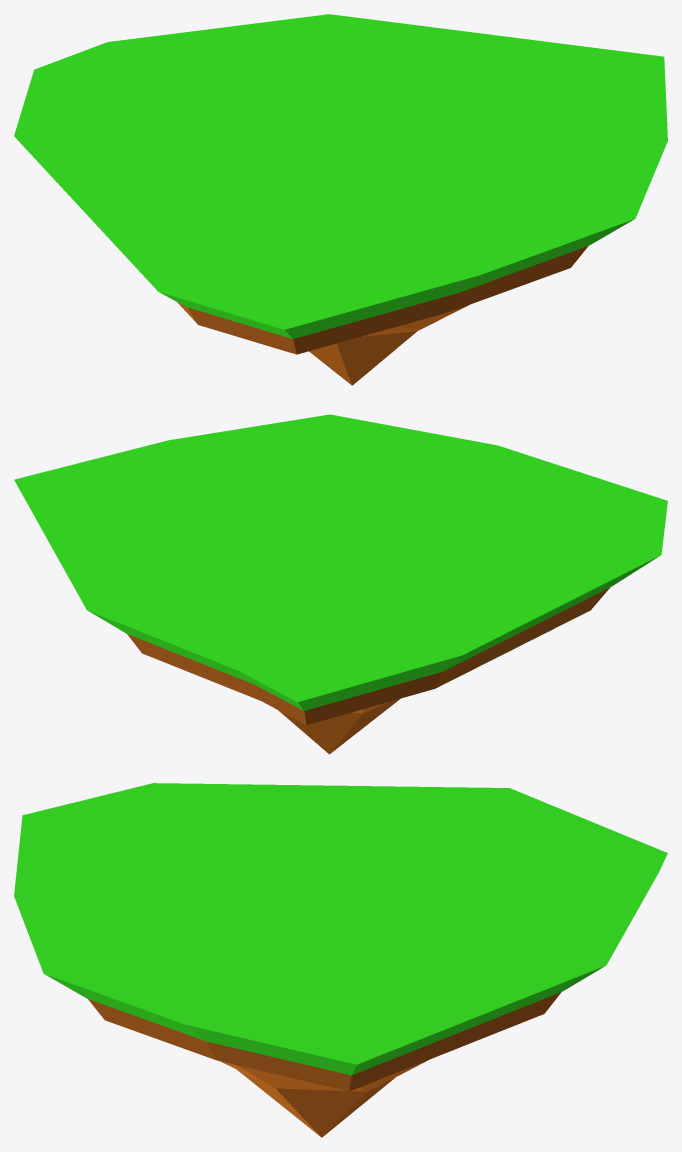
Rendered from island1.fbx.
The picture shows the model from 3 angles, top to bottom: view 1: azimuth 30°, elevation 25°; view 2: azimuth 150°, elevation 25°; view 3: azimuth 270°, elevation 25°; orthographic projection. The views are drawn at different scales.
Parts seen in each view (by area): view 1: island; view 2: island; view 3: island.
Part boxes in pixels (x1,y1,x2,y2): island: (14, 14, 667, 385); island: (14, 414, 667, 754); island: (14, 783, 667, 1137).
Bounding box in the file's own units: 1124 × 420 × 1065.
